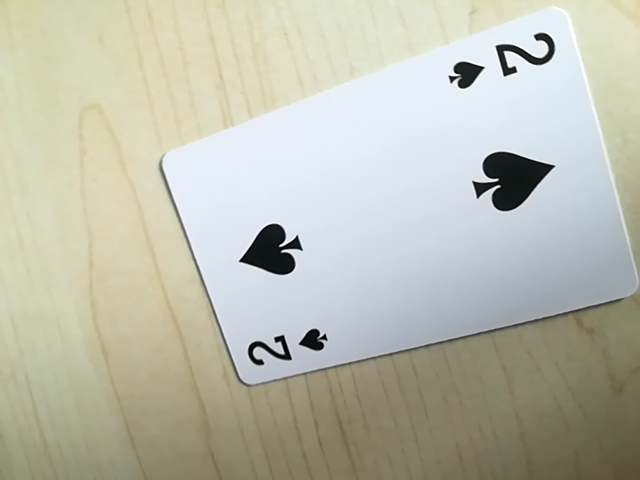ht 2: (440, 27, 562, 100), (238, 322, 333, 379)
